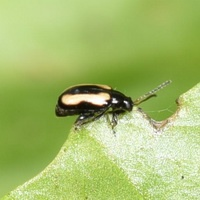insect: (55, 80, 171, 127)
